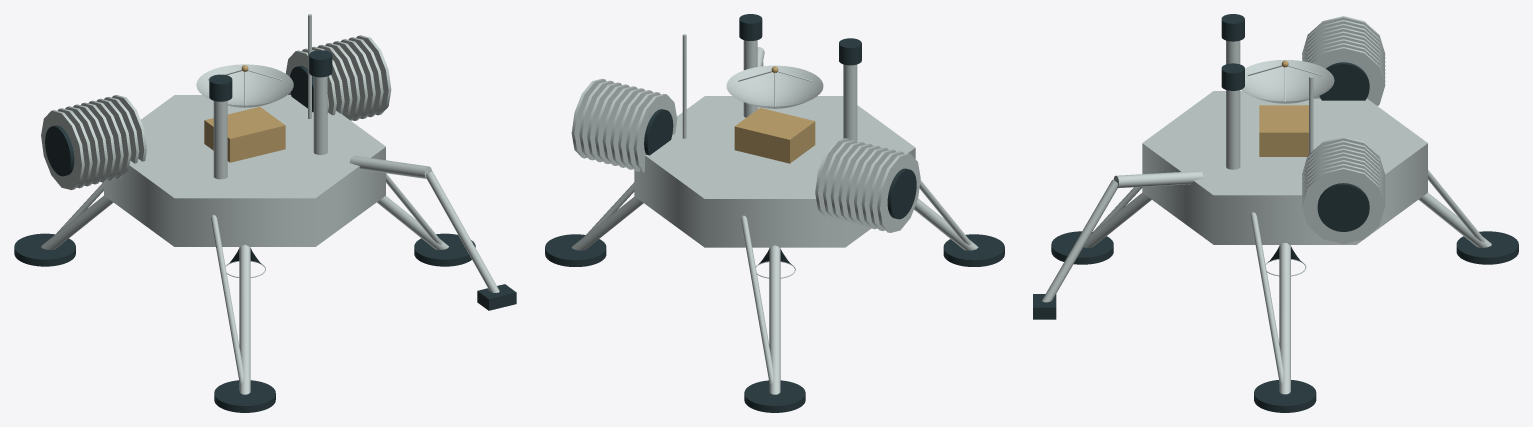
The model's file is viking-1-lander.glb.
The picture shows the model from 3 angles, left to right: view 1: azimuth 30°, elevation 25°; view 2: azimuth 150°, elevation 25°; view 3: azimuth 270°, elevation 25°; orthographic projection.
Parts seen in each view (by area): view 1: body, service, legs, instruments, antenna; view 2: body, service, legs, instruments, antenna; view 3: body, service, legs, instruments, antenna.
Boxes of the visible parts, x1,y1,x2,y2 form: body: [104, 95, 385, 246]; service: [41, 35, 391, 189]; legs: [14, 173, 475, 412]; instruments: [204, 50, 516, 310]; antenna: [196, 14, 311, 118]; body: [634, 96, 915, 247]; service: [571, 78, 920, 232]; legs: [545, 180, 1004, 412]; instruments: [734, 14, 861, 163]; antenna: [682, 34, 823, 138]; body: [1142, 91, 1427, 244]; service: [1302, 16, 1385, 244]; legs: [1051, 170, 1518, 412]; instruments: [1033, 14, 1308, 319]; antenna: [1241, 59, 1334, 153].
Bounding box in the file's own units: 3.46 × 2.23 × 3.74.
